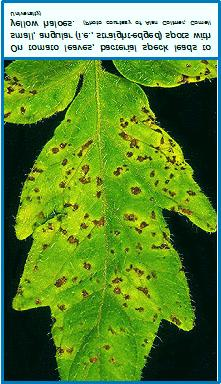Tomato leaf bacterial spot: (10, 62, 215, 378)
